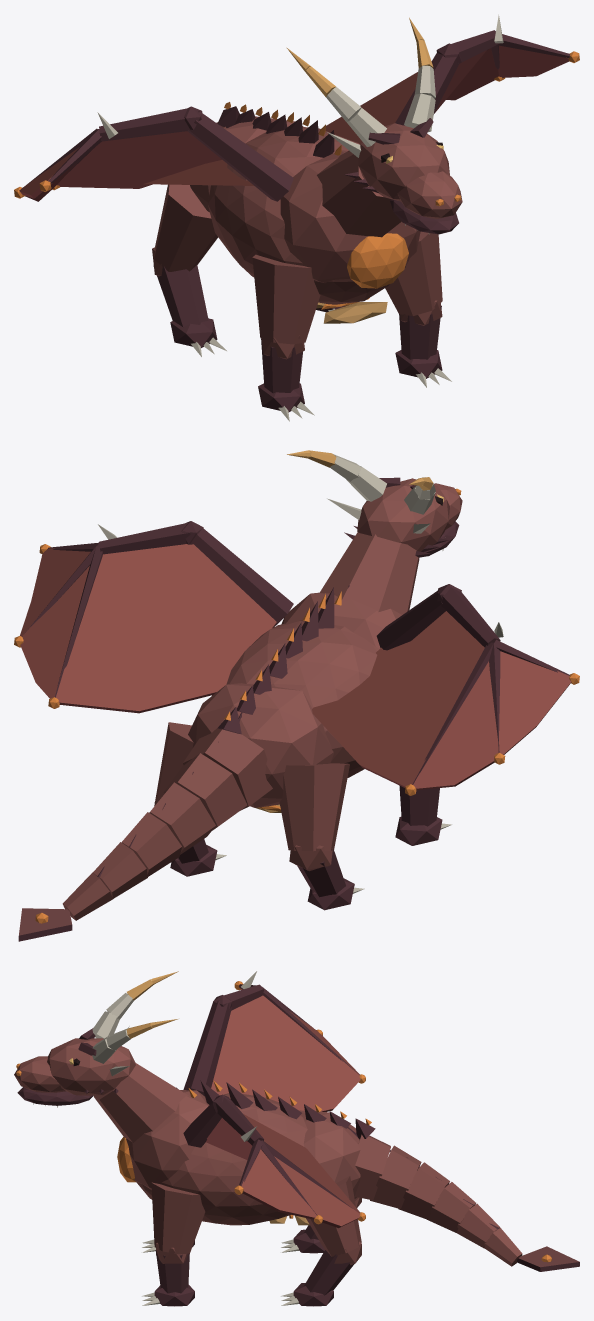
The model's file is boss_drake.glb.
3 renders of one model, top to bottom at view 1: azimuth 30°, elevation 25°; view 2: azimuth 150°, elevation 25°; view 3: azimuth 270°, elevation 25°, orthographic. The views are drawn at different scales.
Parts seen in each view (by area): view 1: boss_drake; view 2: boss_drake; view 3: boss_drake.
Part boxes in pixels (box(x1,y1,x2,y2)): boss_drake: box(14, 14, 579, 421); boss_drake: box(14, 450, 579, 941); boss_drake: box(14, 971, 579, 1306).
Size of the model in its own units: 5.96 by 3.8 by 6.84.
